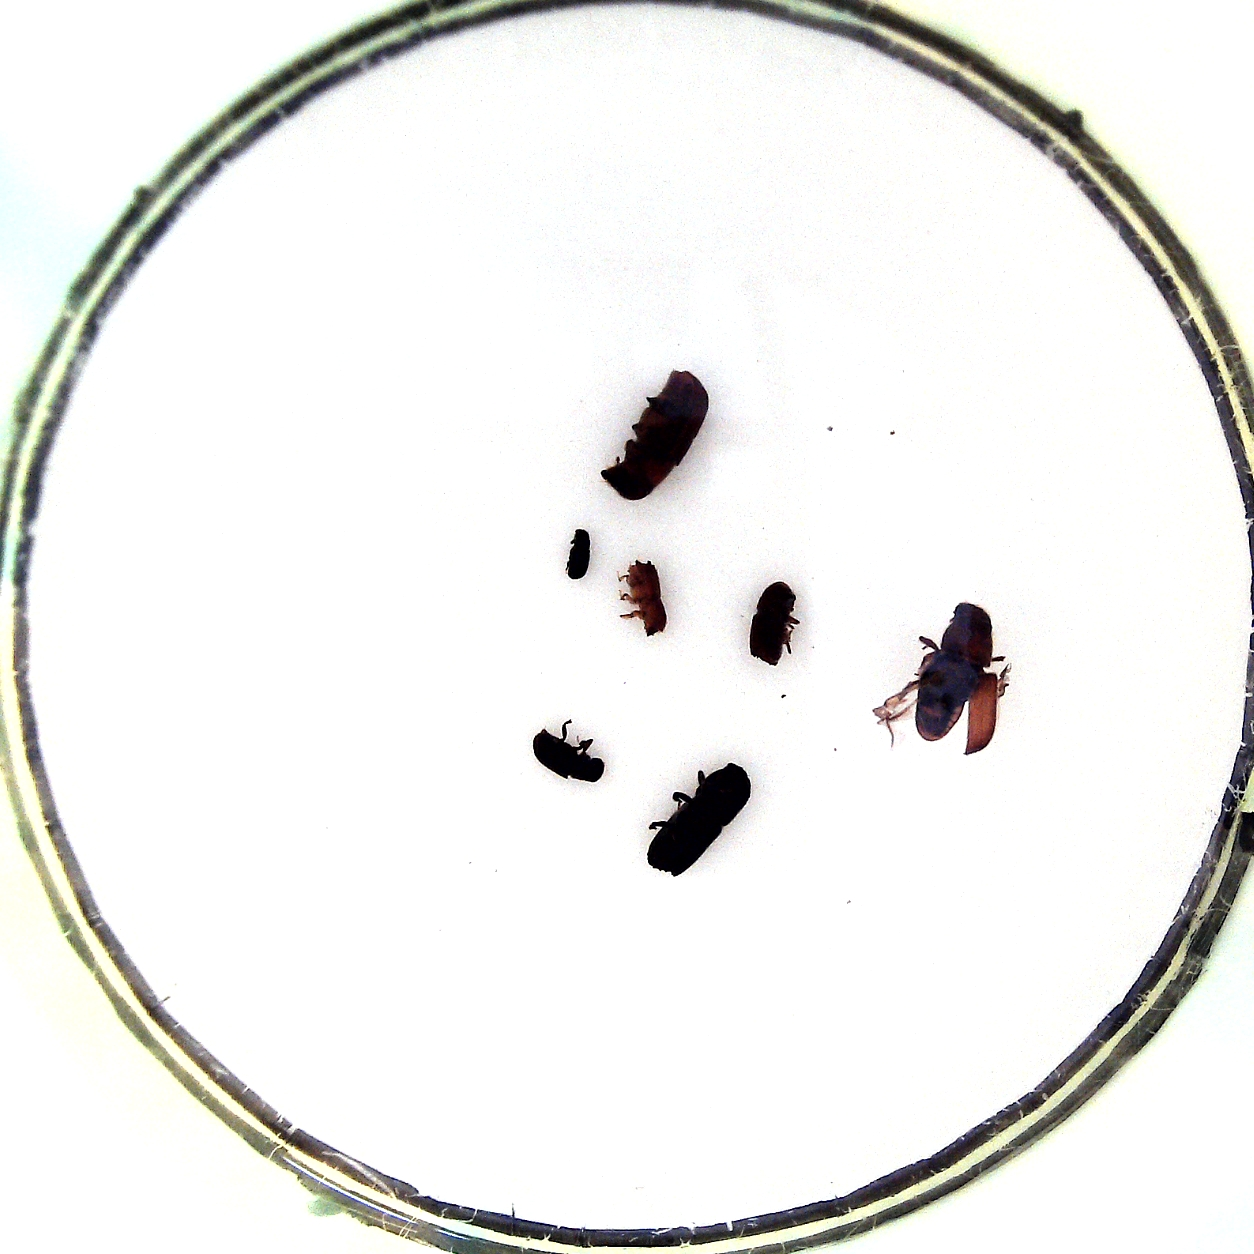Boerner: (641, 761, 749, 884)
Leconte: (870, 596, 1014, 758), (599, 366, 713, 502)
Linnaeus: (746, 576, 798, 674)
acuminatus: (618, 555, 672, 642)
armandi: (528, 720, 610, 789)
coleoptera: (559, 522, 593, 585)
